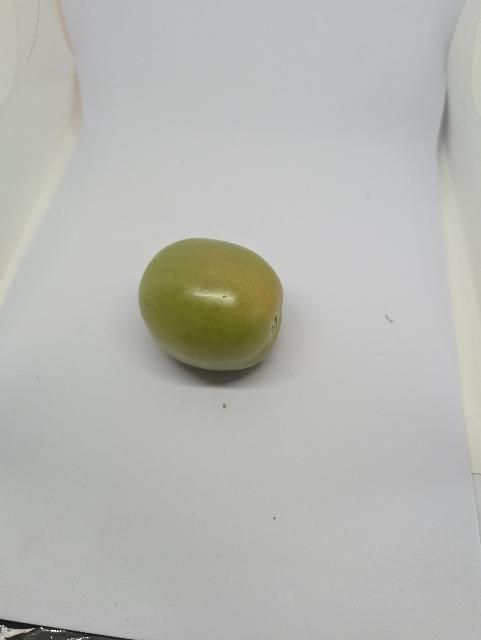green: (124, 228, 297, 385)
